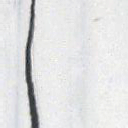crackTip: (23, 1, 43, 128)
